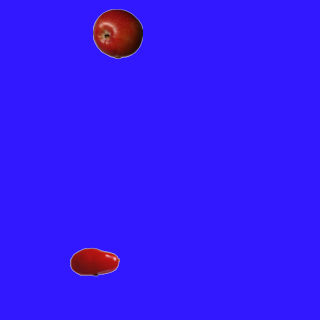Apple Braeburn: (92, 8, 142, 58)
Tomato 2: (69, 236, 119, 286)
